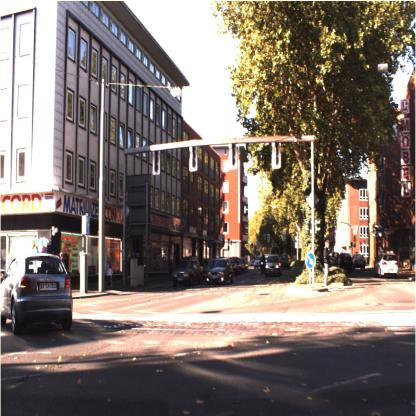keep right: (305, 252, 315, 269)
